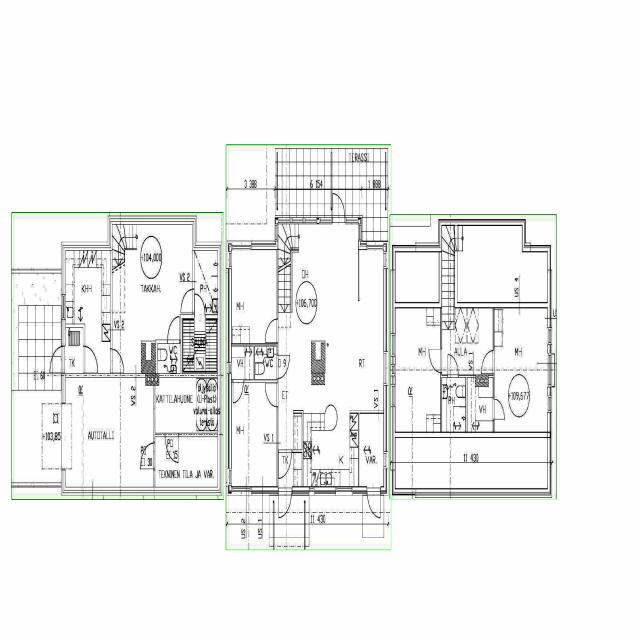door: (48, 345, 66, 373), (278, 487, 292, 521), (367, 487, 380, 521), (333, 191, 345, 224), (278, 450, 292, 478), (83, 346, 98, 372), (140, 443, 155, 469), (165, 432, 178, 462), (110, 349, 124, 372), (276, 355, 290, 378), (168, 316, 179, 344), (181, 289, 194, 312), (265, 319, 278, 342), (429, 349, 442, 372), (481, 350, 494, 373), (265, 384, 278, 406), (195, 294, 205, 320), (448, 354, 458, 377), (233, 380, 243, 402), (493, 399, 504, 419)
